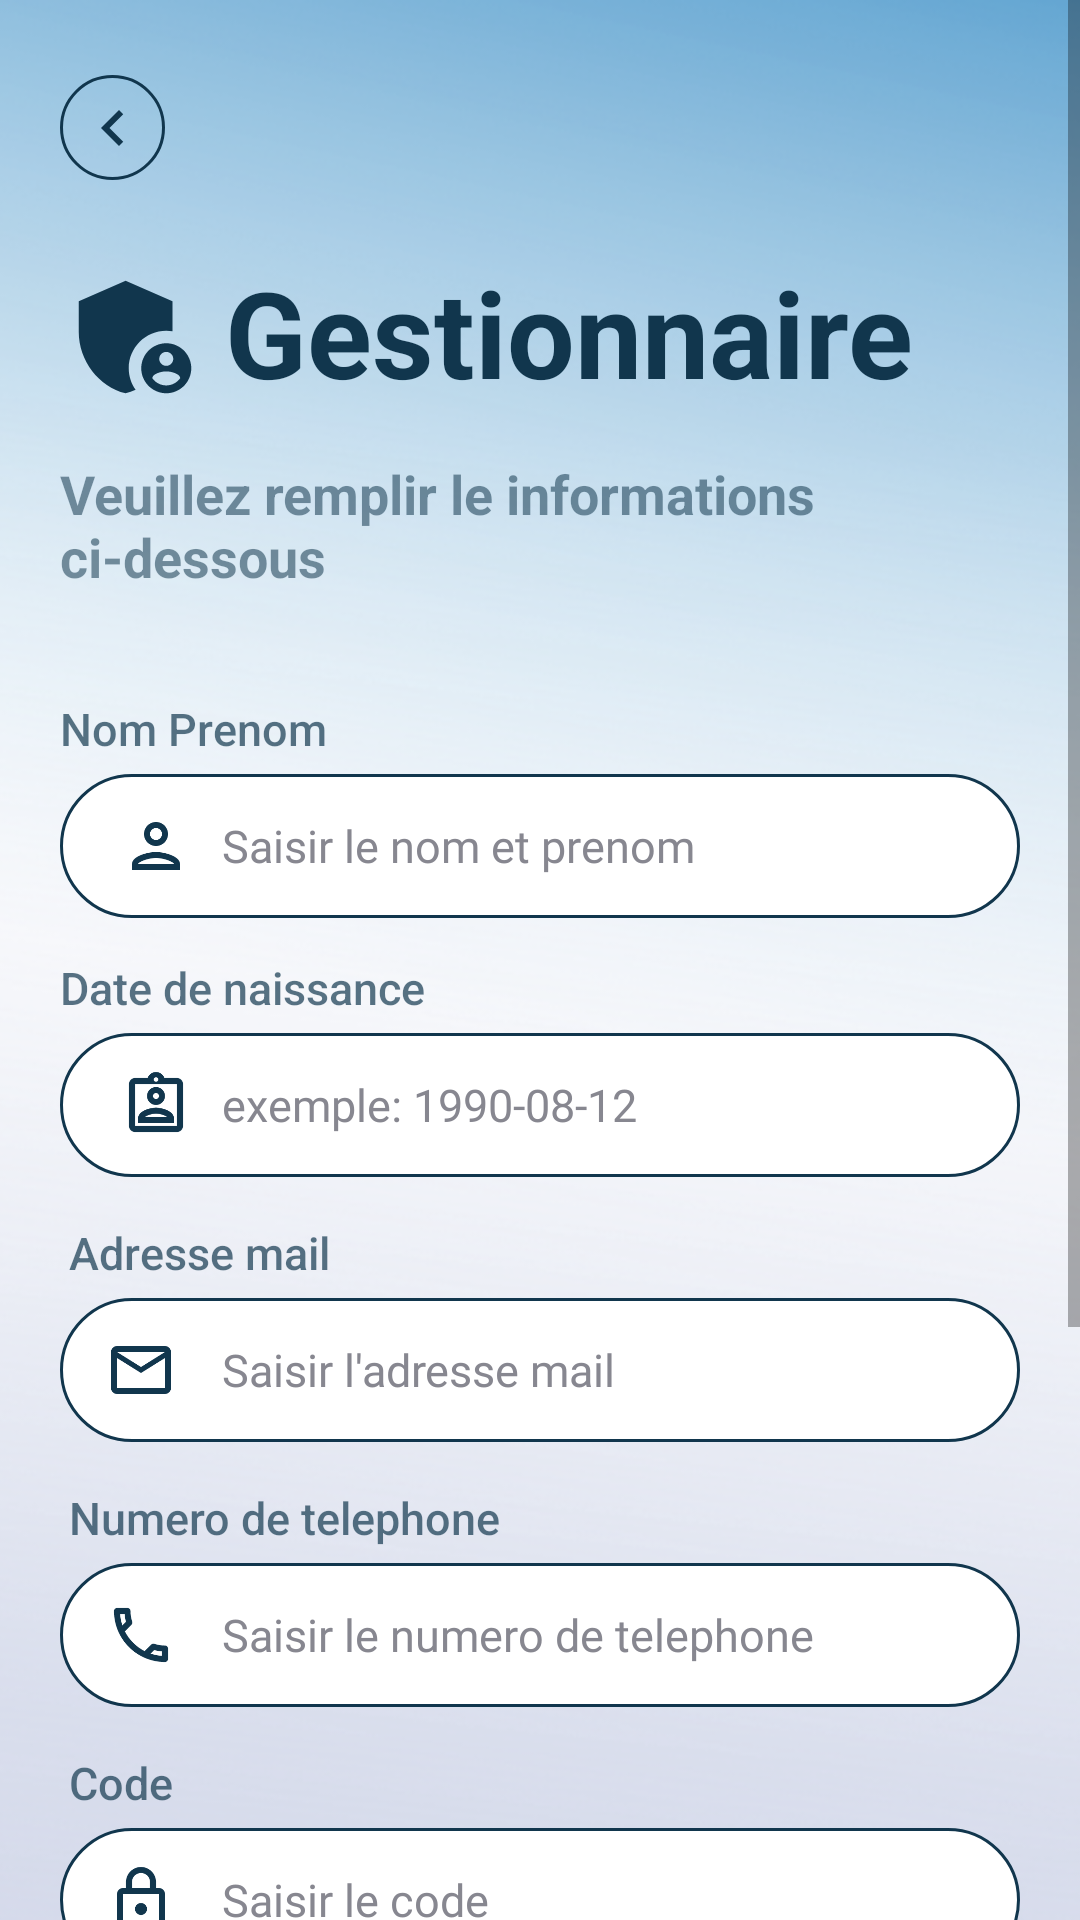

Icons on this 1080 x 1920 Android screen, each with the point to tap as (x,y):
admin panel settings: (135,348)
navigate before: (112,127)
